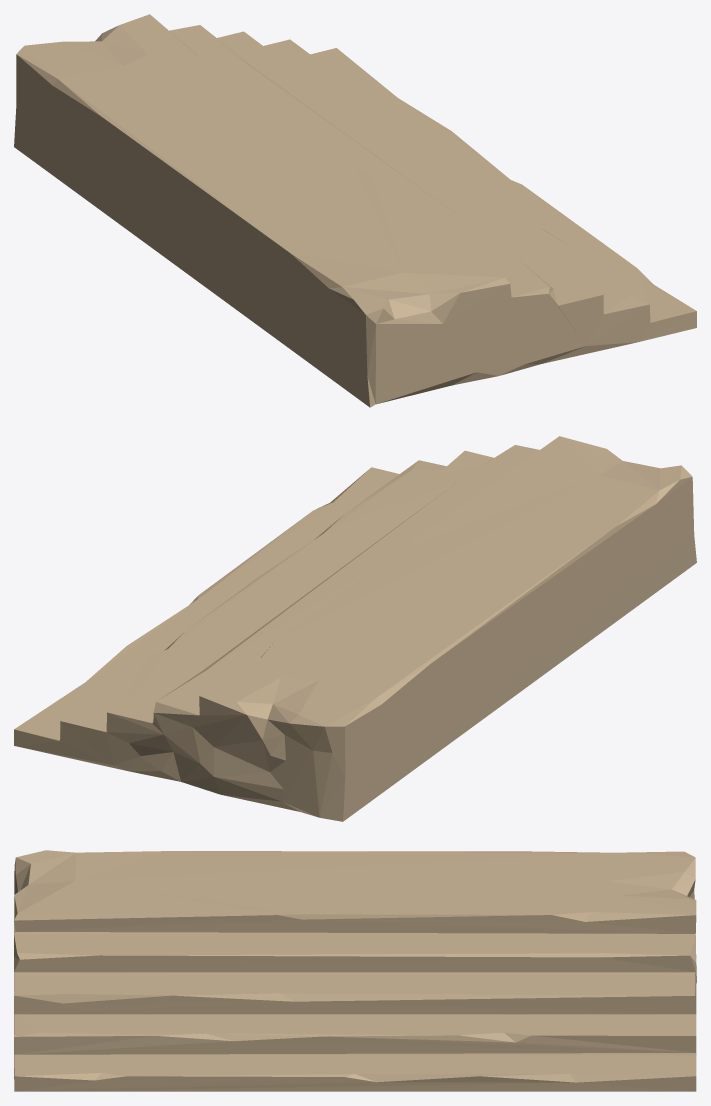
File: SM_stair_debris_06.fbx
The picture shows the model from 3 angles, top to bottom: view 1: azimuth 30°, elevation 25°; view 2: azimuth 150°, elevation 25°; view 3: azimuth 270°, elevation 25°; orthographic projection. The views are drawn at different scales.
Visible parts, largest first — view 1: stair_debris_06; view 2: stair_debris_06; view 3: stair_debris_06.
Part boxes in pixels (left/top/right/bottom): stair_debris_06: left=14, top=14, right=696, bottom=407; stair_debris_06: left=14, top=436, right=696, bottom=821; stair_debris_06: left=14, top=850, right=696, bottom=1091.
Size of the model in its own units: 260 by 72.86 by 496.
